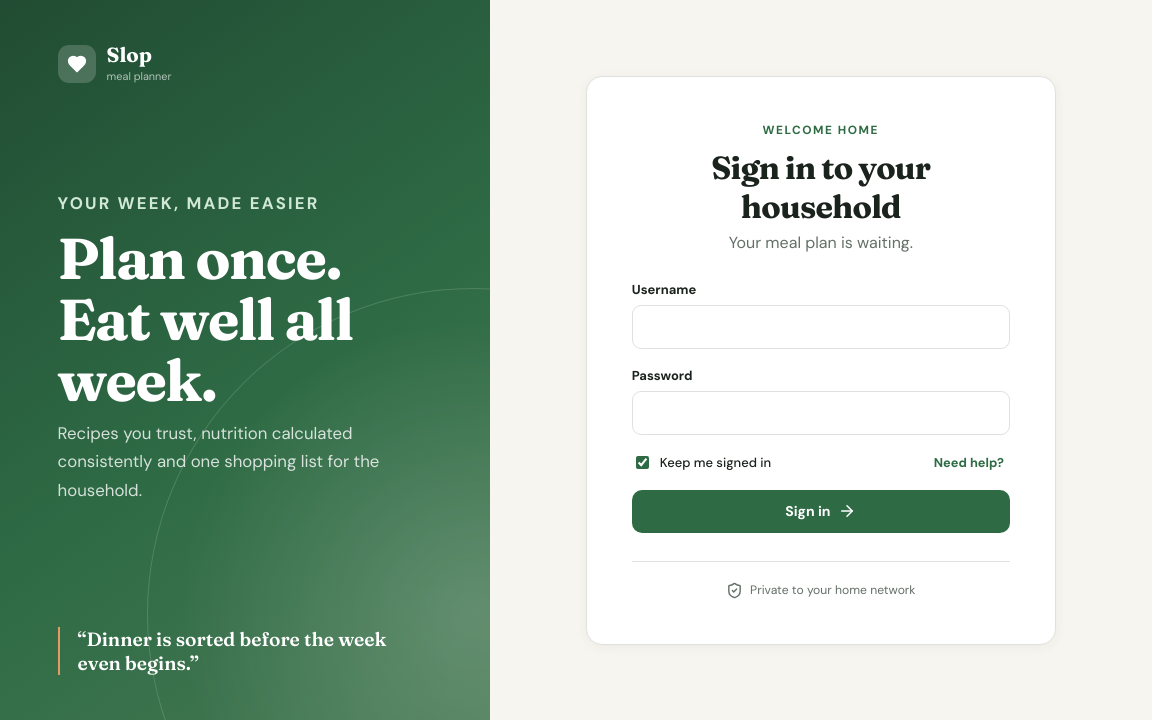
Test: LoginPage › opens actionable sign-in help instead of leaving the help control inert
Check: the heading "Sign in to your household" is shown, box [711,148,930,226]
Click the button "Need help?" at (969,462), box [928,452,1010,472]
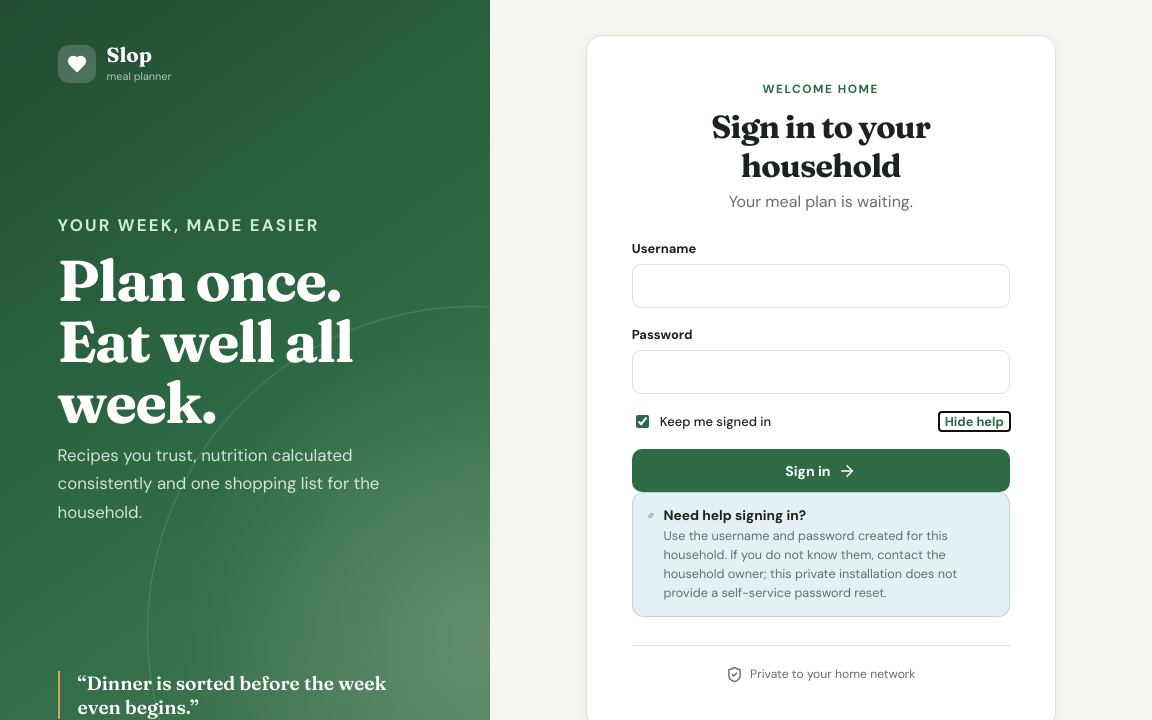
Check: the button named "Need help?" is expanded, box [939,412,1010,431]
Check: the element named "Sign-in help" shows "contact the household owner", box [664,527,957,601]
